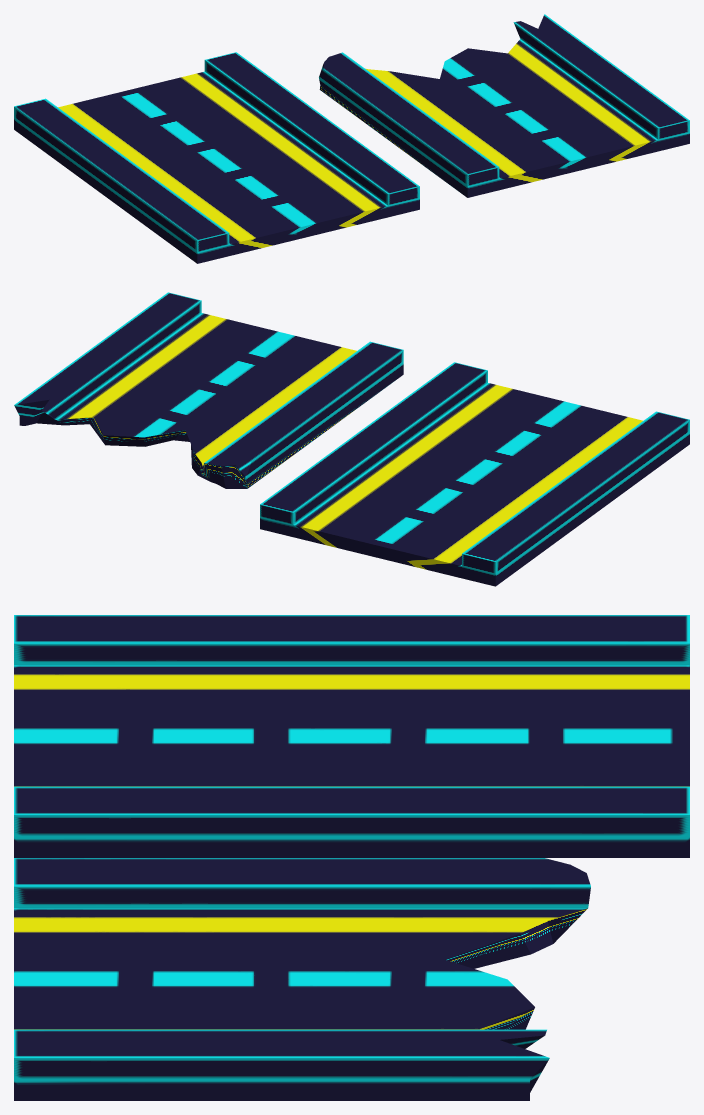
Rendered from street.fbx.
3 renders of one model, top to bottom at view 1: azimuth 30°, elevation 25°; view 2: azimuth 150°, elevation 25°; view 3: azimuth 270°, elevation 25°, orthographic. The views are drawn at different scales.
Visible parts, largest first — view 1: Bridge_Road5, Bridge_Road6; view 2: Bridge_Road5, Bridge_Road6; view 3: Bridge_Road5, Bridge_Road6.
Boxes of the visible parts, bbox=[...] form: Bridge_Road5: bbox=[14, 52, 419, 263]; Bridge_Road6: bbox=[319, 14, 689, 197]; Bridge_Road5: bbox=[260, 362, 689, 586]; Bridge_Road6: bbox=[14, 292, 403, 488]; Bridge_Road5: bbox=[14, 615, 689, 857]; Bridge_Road6: bbox=[14, 858, 590, 1100].
Size of the model in its own units: 31 by 1.4 by 20.
Materials: 1 (1 with a texture image).
